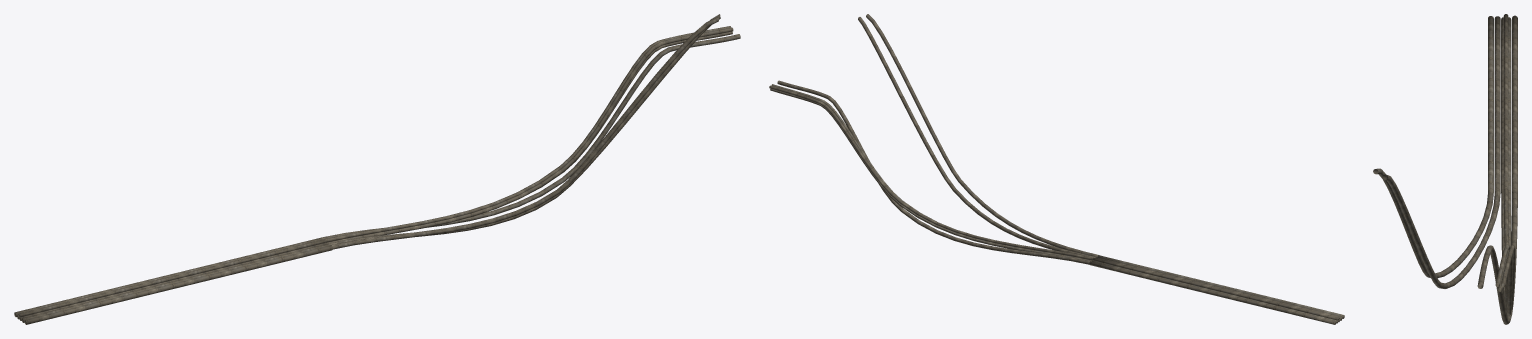
Rendered from Grid_Ceiling_02.fbx.
3 views of the same model, side by side, from view 1: azimuth 30°, elevation 25°; view 2: azimuth 150°, elevation 25°; view 3: azimuth 270°, elevation 25° (orthographic). The views are drawn at different scales.
Parts seen in each view (by area): view 1: Grid_Ceiling_02; view 2: Grid_Ceiling_02; view 3: Grid_Ceiling_02.
Part boxes in pixels (x1=…): Grid_Ceiling_02: x1=14, y1=14, x2=740, y2=324; Grid_Ceiling_02: x1=769, y1=14, x2=1344, y2=324; Grid_Ceiling_02: x1=1373, y1=14, x2=1517, y2=324.
Bounding box in the file's own units: 9816 × 2647 × 1488.
